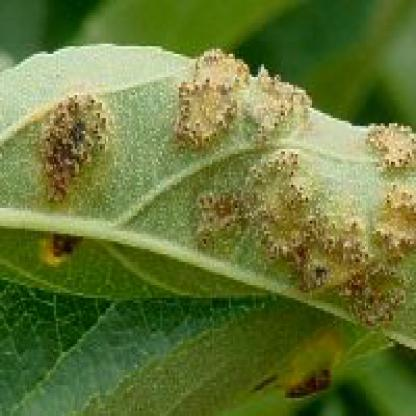apple rust leaf: (2, 39, 414, 375)
